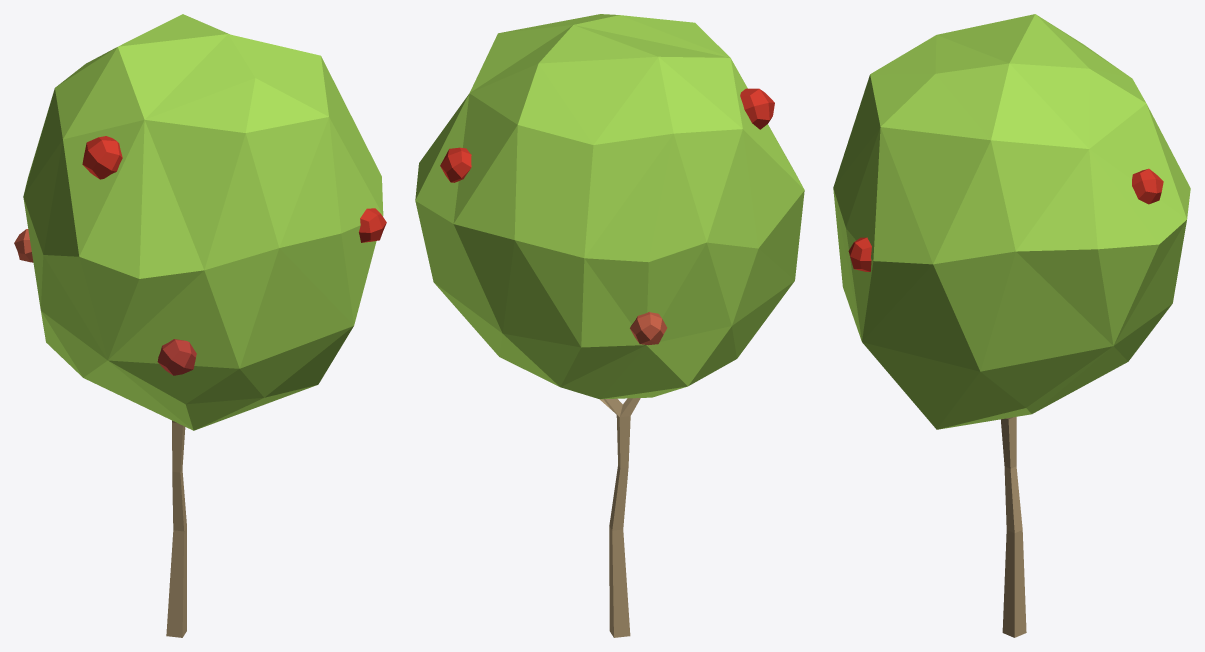
File: Apple_Tree_Apples_s_01_LOD.fbx
3 renders of one model, left to right at view 1: azimuth 30°, elevation 25°; view 2: azimuth 150°, elevation 25°; view 3: azimuth 270°, elevation 25°, orthographic.
Parts seen in each view (by area): view 1: Apple_Tree_Apples_s_01_LOD0; view 2: Apple_Tree_Apples_s_01_LOD0; view 3: Apple_Tree_Apples_s_01_LOD0.
Part boxes in pixels (left/top/right/bottom): Apple_Tree_Apples_s_01_LOD0: left=14, top=14, right=386, bottom=637; Apple_Tree_Apples_s_01_LOD0: left=415, top=14, right=804, bottom=637; Apple_Tree_Apples_s_01_LOD0: left=833, top=14, right=1190, bottom=637.
Size of what is drawn, in the model's own units: 178 by 329 by 179.
